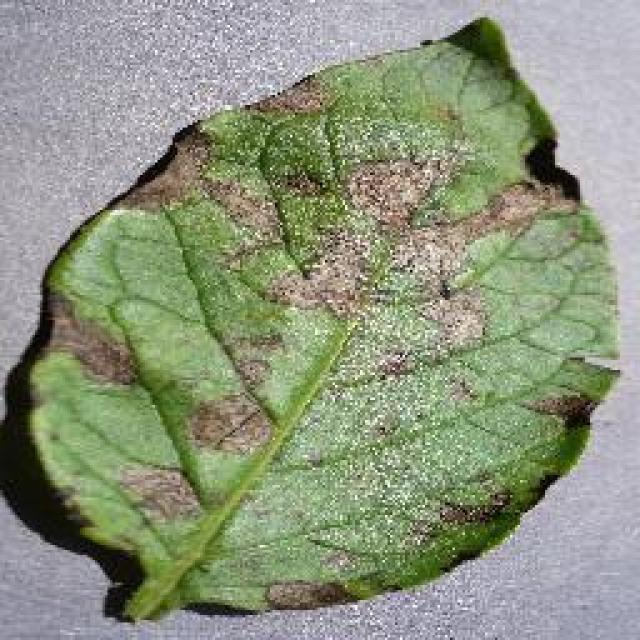Potato: (20, 12, 622, 622)
